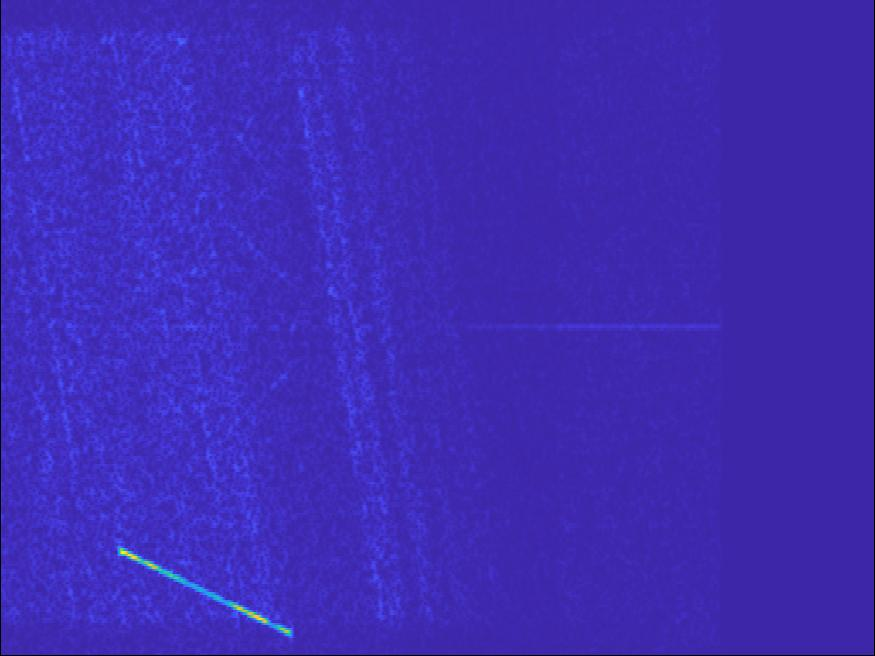Interference: (133, 184, 315, 320), (401, 290, 579, 344), (695, 90, 838, 135)
